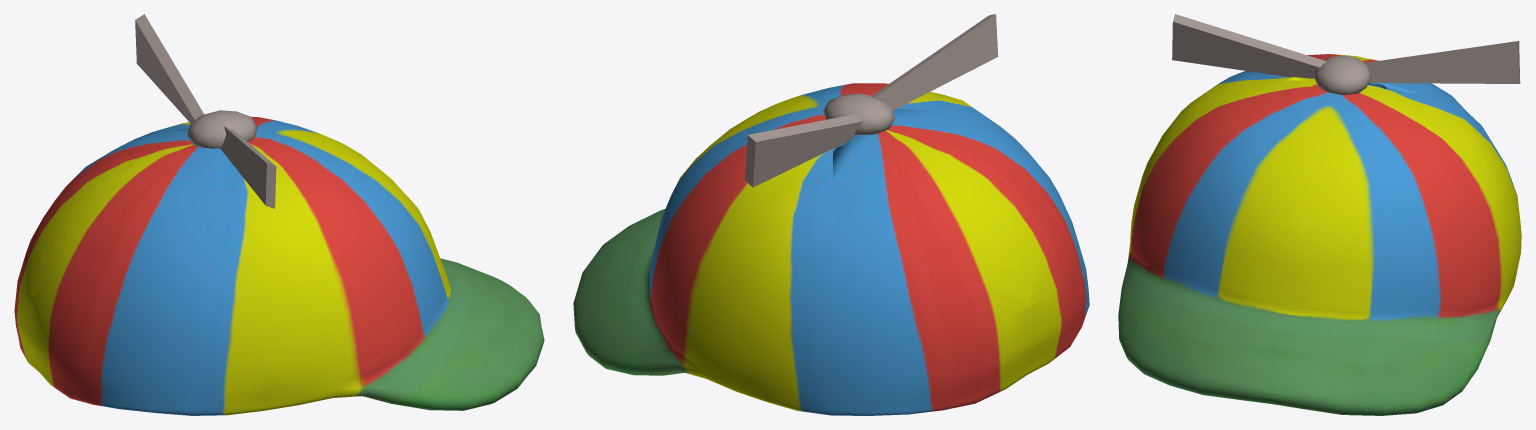
Rendered from Propeller.glb.
3 renders of one model, left to right at view 1: azimuth 30°, elevation 25°; view 2: azimuth 150°, elevation 25°; view 3: azimuth 270°, elevation 25°, orthographic. The views are drawn at different scales.
Visible parts, largest first — view 1: Propeller; view 2: Propeller; view 3: Propeller.
Part boxes in pixels (left/top/right/bottom): Propeller: left=14, top=14, right=544, bottom=415; Propeller: left=573, top=14, right=1089, bottom=415; Propeller: left=1118, top=14, right=1521, bottom=415.
Bounding box in the file's own units: 0.5592 × 0.3432 × 0.4533.
2 materials, 1 textured.
